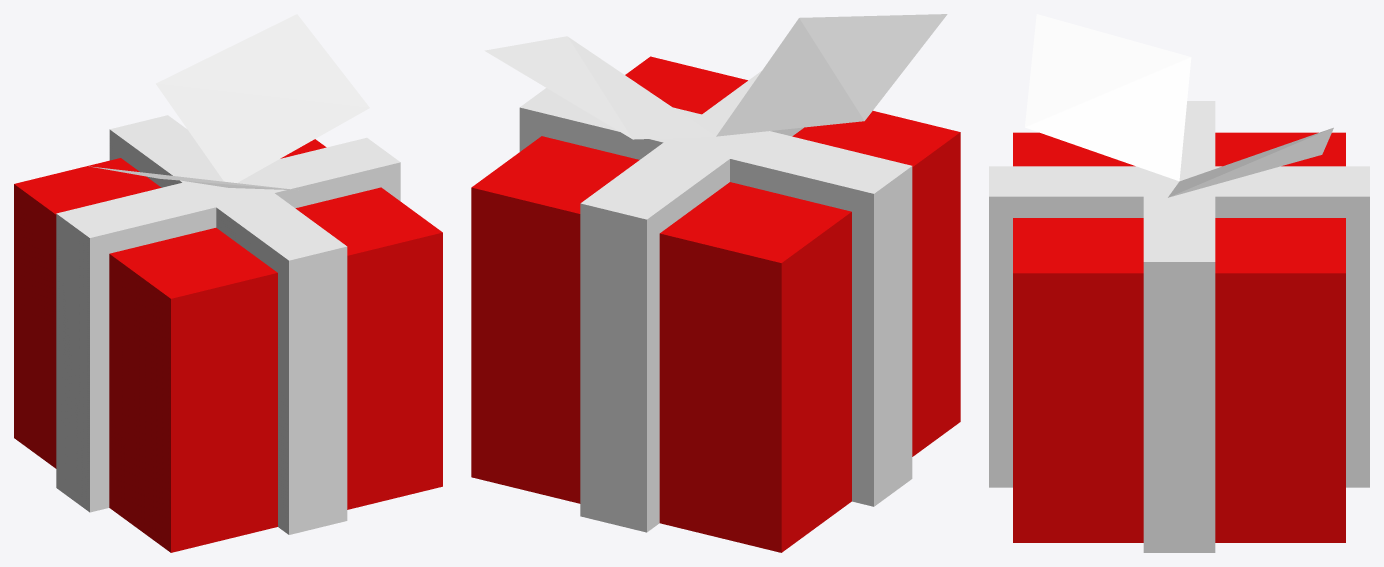
Rendered from Present.glb.
3 views of the same model, side by side, from view 1: azimuth 30°, elevation 25°; view 2: azimuth 150°, elevation 25°; view 3: azimuth 270°, elevation 25° (orthographic). The views are drawn at different scales.
Visible parts, largest first — view 1: Present, Lenta; view 2: Present, Lenta; view 3: Present, Lenta.
Boxes of the visible parts, x1=… form: Present: x1=14, y1=139, x2=442, y2=552; Lenta: x1=56, y1=14, x2=400, y2=534; Present: x1=471, y1=56, x2=960, y2=552; Lenta: x1=484, y1=14, x2=947, y2=532; Present: x1=1013, y1=132, x2=1345, y2=542; Lenta: x1=989, y1=14, x2=1369, y2=552.
Size of the model in its own units: 1.6 by 1.8 by 1.6.
